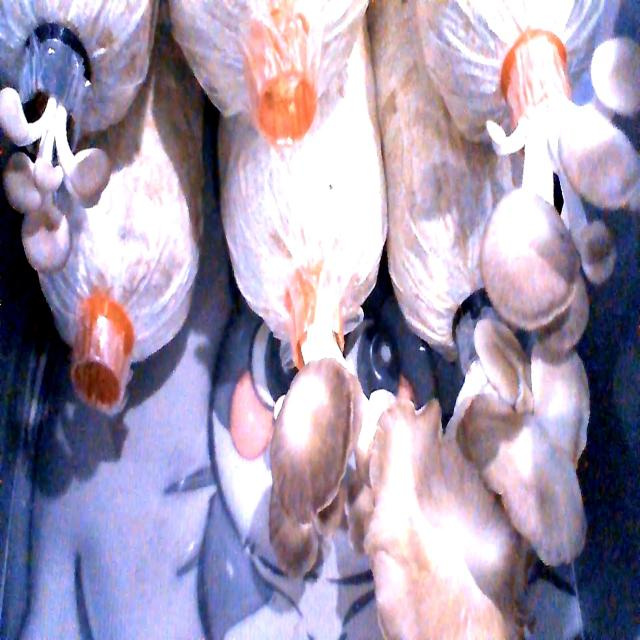big: (376, 345, 598, 640), (466, 40, 640, 333), (275, 311, 367, 580)
nfound: (67, 335, 143, 432), (248, 70, 321, 153)
small: (0, 76, 113, 271)
